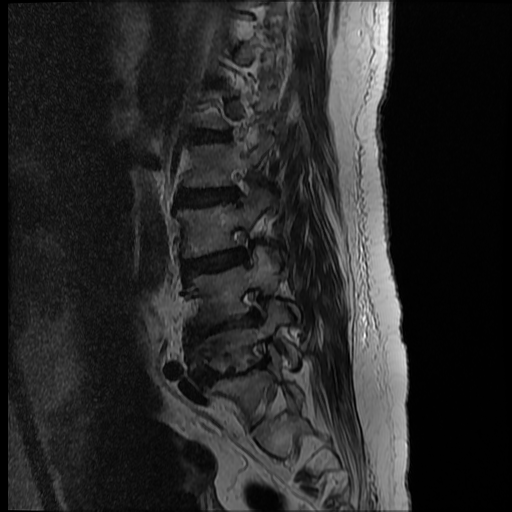LFS1: (235, 280, 281, 333), (224, 218, 265, 276)
